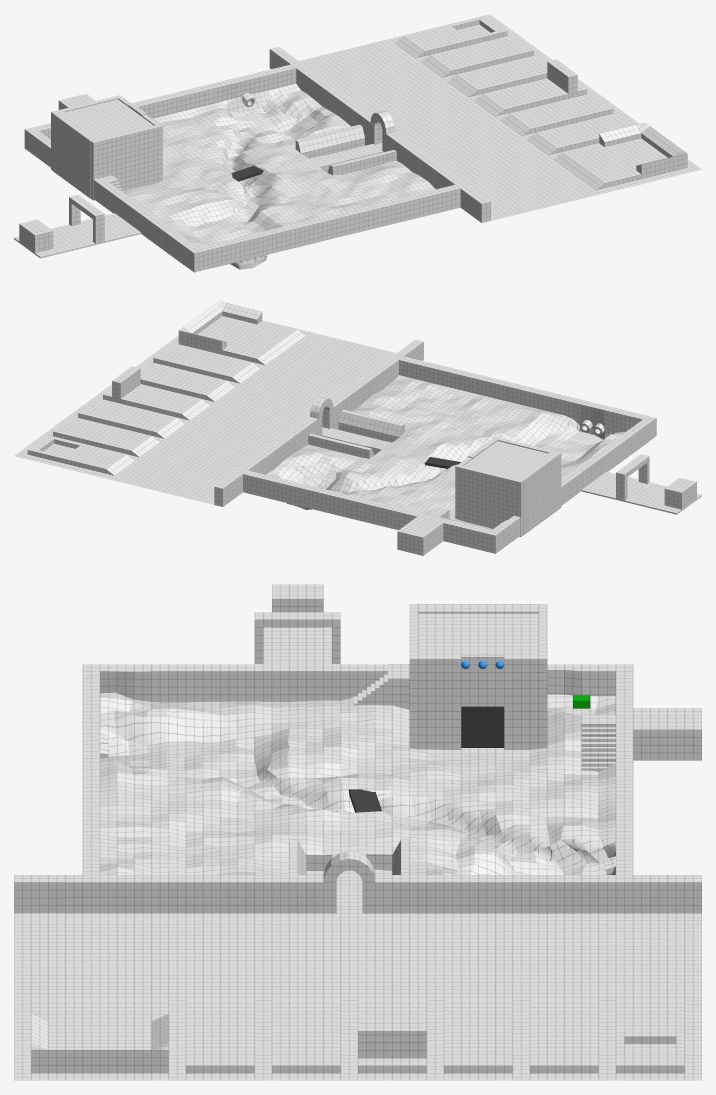
Rendered from ExampleStage2.fbx.
The picture shows the model from 3 angles, top to bottom: view 1: azimuth 30°, elevation 25°; view 2: azimuth 150°, elevation 25°; view 3: azimuth 270°, elevation 25°; orthographic projection. The views are drawn at different scales.
Parts seen in each view (by area): view 1: Level, Block 1x1y1z5, Block 1x1y1z1, Block 1x1y1z6, Block 1x1y1z; view 2: Level, Block 1x1y1z, Block 1x1y1z1, Block 1x1y1z6, Block 1x1y1z5; view 3: Level, Block 1x1y1z6, Block 1x1y1z2, Block 1x1y1z3, Block 1x1y1z4, Stairs1, Cube, Stairs, Block 1x1y1z5, Block 1x1y1z, Block 1x1y1z1, Arch.
Part boxes in pixels (<box>): Level: <box>14,14,701,272</box>; Block 1x1y1z5: <box>90,124,162,200</box>; Block 1x1y1z1: <box>53,111,99,198</box>; Block 1x1y1z6: <box>64,99,153,138</box>; Block 1x1y1z: <box>51,95,121,170</box>; Level: <box>14,301,701,555</box>; Block 1x1y1z: <box>455,464,523,536</box>; Block 1x1y1z1: <box>515,453,558,534</box>; Block 1x1y1z6: <box>464,441,548,478</box>; Block 1x1y1z5: <box>493,437,561,508</box>; Level: <box>14,584,701,1080</box>; Block 1x1y1z6: <box>418,613,538,655</box>; Block 1x1y1z2: <box>418,655,461,749</box>; Block 1x1y1z3: <box>504,655,538,749</box>; Block 1x1y1z4: <box>461,654,504,706</box>; Stairs1: <box>581,715,615,771</box>; Cube: <box>461,706,504,747</box>; Stairs: <box>353,664,409,709</box>; Block 1x1y1z5: <box>409,604,418,749</box>; Block 1x1y1z: <box>538,604,547,748</box>; Block 1x1y1z1: <box>418,604,538,613</box>; Arch: <box>323,851,375,882</box>.
Size of the model in its own units: 128 by 15.32 by 80.
Materials: 5 (4 with a texture image).
